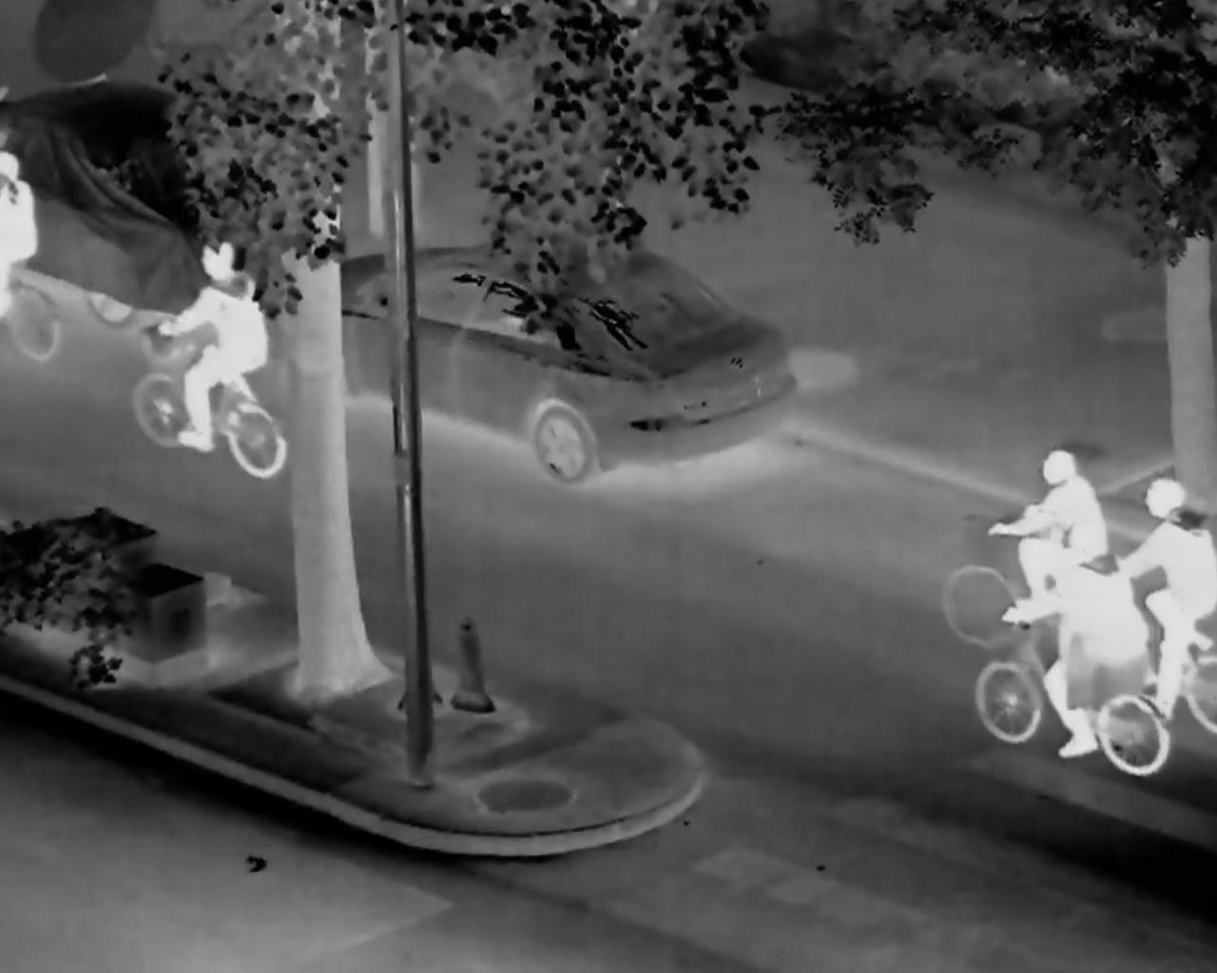person: (1001, 525, 1143, 755), (160, 240, 269, 454), (1119, 480, 1210, 725), (989, 445, 1107, 621)
